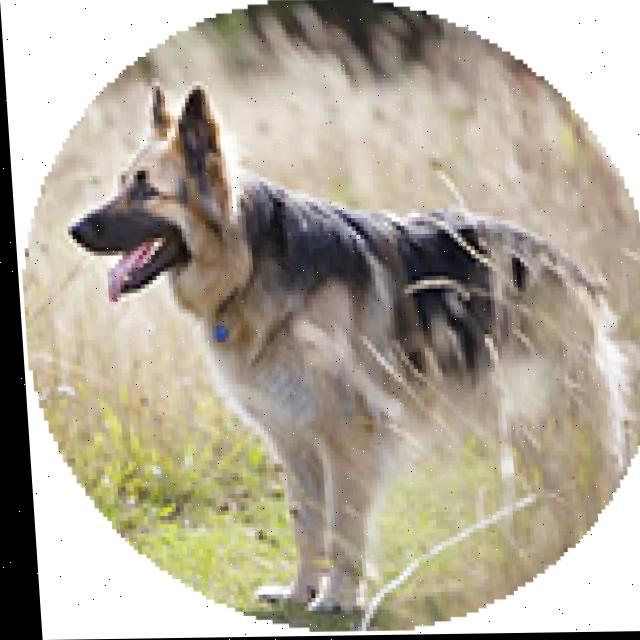GERMAN_SHEPHERD: (34, 58, 640, 640)
